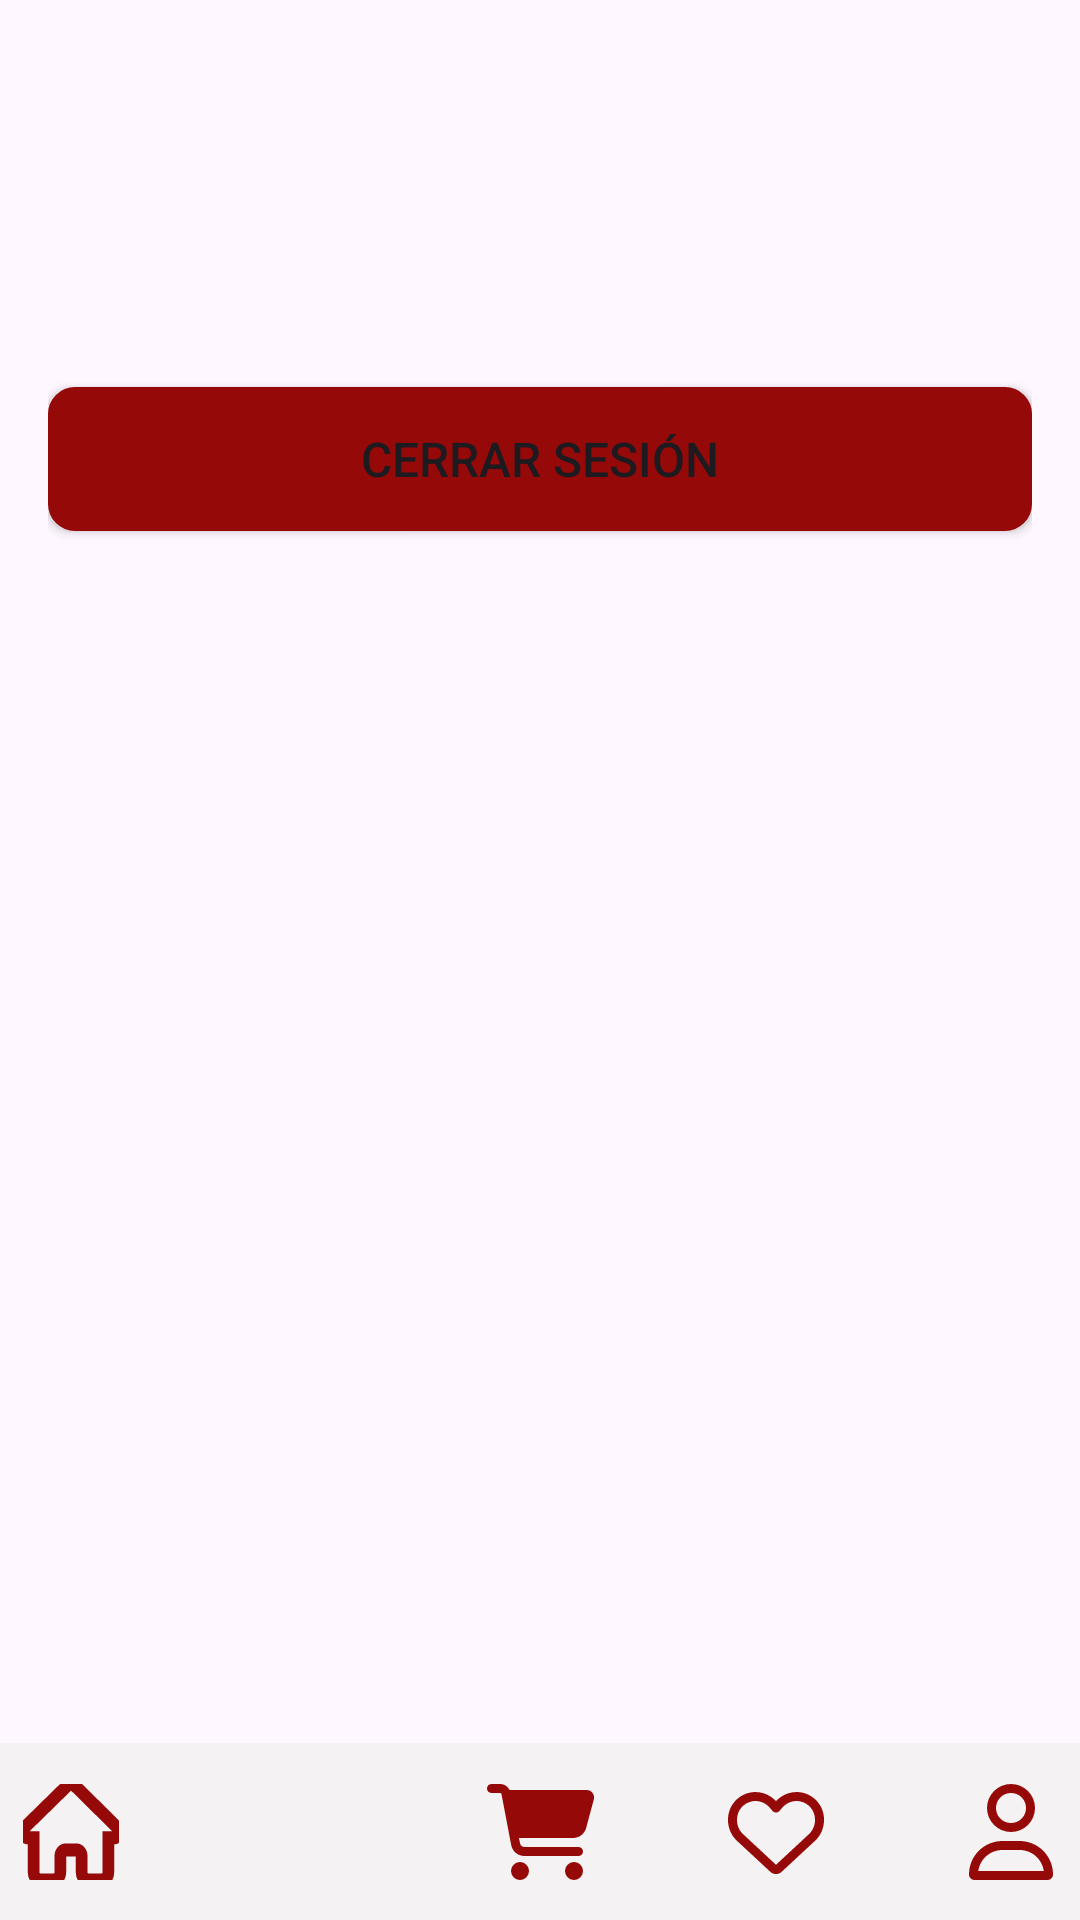

Where icons sit on this 1080px×1920px app screen, as (x1, y1, x2, y2):
cart: (487, 1784, 594, 1880)
heart: (728, 1792, 824, 1874)
